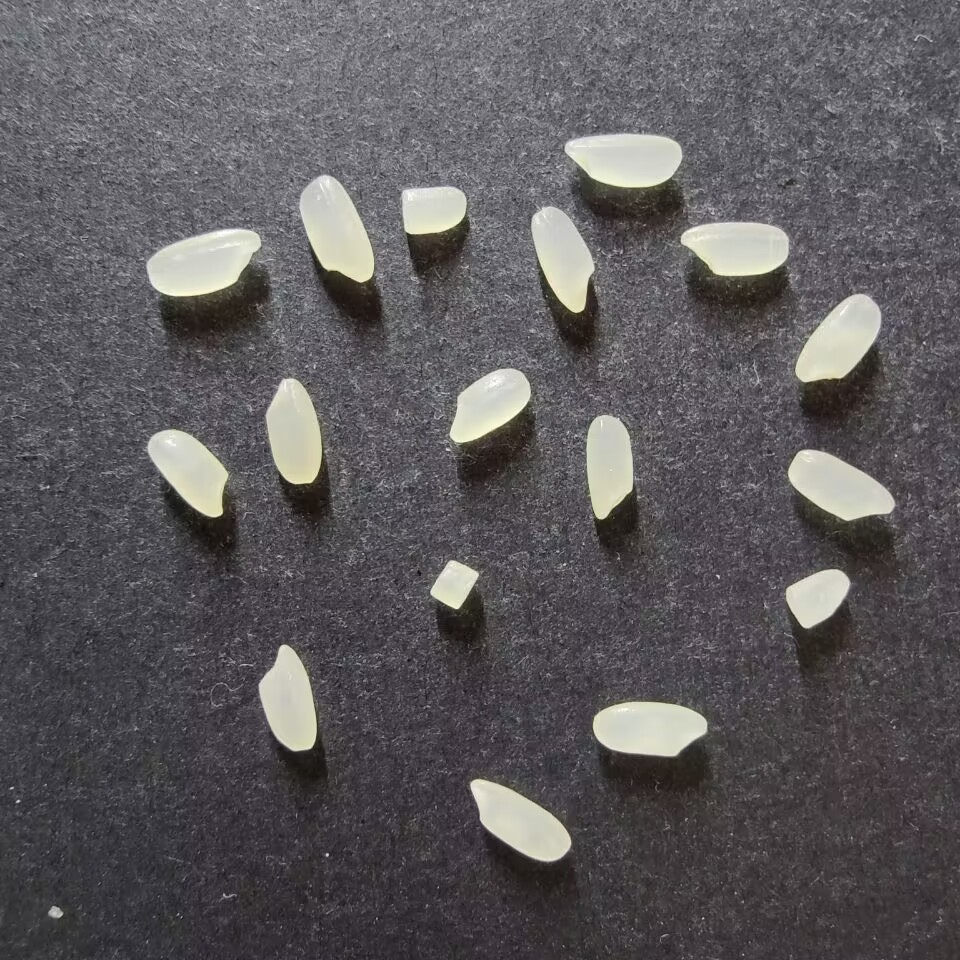broken: (784, 568, 849, 629), (400, 186, 467, 235), (429, 560, 479, 610)
rice: (468, 778, 571, 861), (298, 175, 374, 282), (794, 293, 881, 383), (146, 228, 261, 296), (787, 449, 895, 520), (147, 429, 228, 517), (531, 206, 594, 313), (563, 133, 682, 188), (257, 644, 317, 752), (592, 701, 707, 757), (679, 221, 789, 277), (448, 368, 530, 443), (265, 377, 322, 484), (585, 414, 633, 520)
